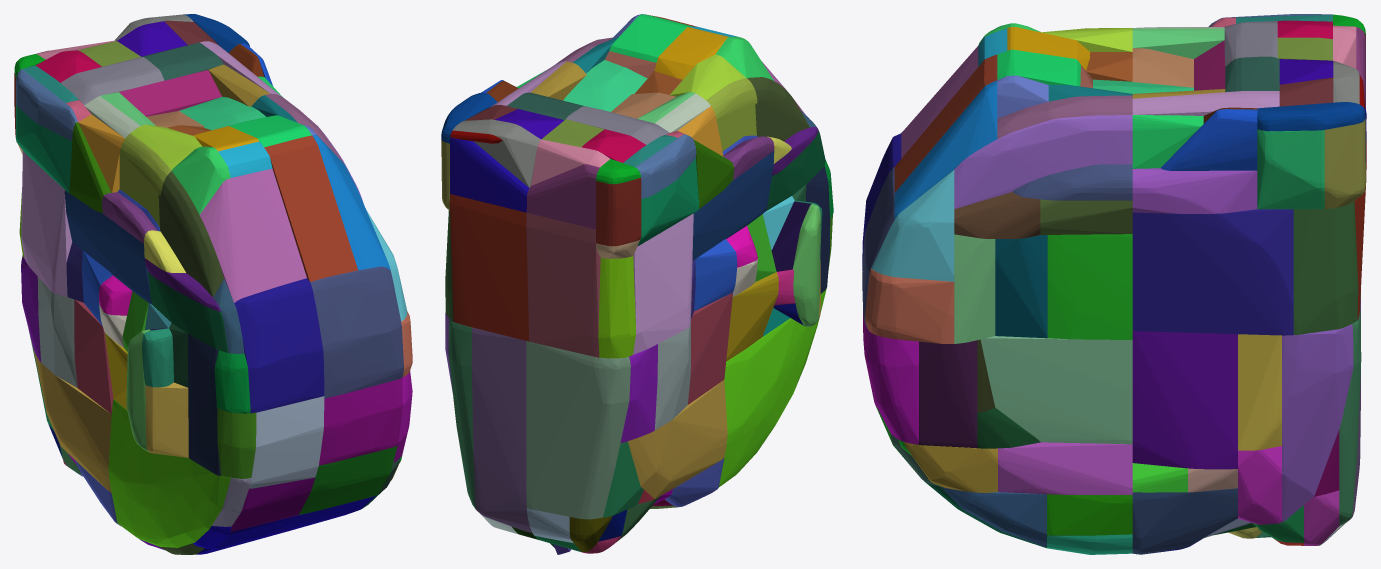
File: coacd_collision.obj
The picture shows the model from 3 angles, left to right: view 1: azimuth 30°, elevation 25°; view 2: azimuth 150°, elevation 25°; view 3: azimuth 270°, elevation 25°; orthographic projection. The views are drawn at different scales.
Visible parts, largest first — view 1: geometry_17, geometry_16, geometry_20, geometry_7, geometry_31, geometry_6, geometry_14, geometry_49, geometry_37, geometry_44, geometry_63, geometry_21 (+59 smaller); view 2: geometry_0, geometry_1, geometry_15, geometry_13, geometry_17, geometry_37, geometry_49, geometry_44, geometry_102, geometry_4, geometry_109, geometry_28 (+54 smaller); view 3: geometry_18, geometry_27, geometry_39, geometry_46, geometry_40, geometry_50, geometry_19, geometry_38, geometry_26, geometry_2, geometry_9, geometry_112 (+53 smaller).
Boxes of the visible parts, x1,y1,x2,y2 form: geometry_17: [108, 399, 230, 547]; geometry_16: [310, 266, 403, 398]; geometry_20: [234, 278, 324, 413]; geometry_7: [199, 168, 306, 302]; geometry_31: [264, 135, 357, 281]; geometry_6: [249, 396, 324, 488]; geometry_14: [319, 378, 402, 465]; geometry_49: [21, 151, 72, 296]; geometry_37: [33, 349, 111, 492]; geometry_44: [64, 190, 152, 304]; geometry_63: [158, 171, 223, 297]; geometry_21: [188, 334, 220, 475]; geometry_0: [526, 341, 630, 519]; geometry_1: [471, 327, 531, 532]; geometry_15: [449, 194, 529, 341]; geometry_13: [526, 213, 600, 357]; geometry_17: [718, 289, 826, 487]; geometry_37: [628, 380, 727, 498]; geometry_49: [633, 213, 693, 354]; geometry_44: [692, 151, 774, 260]; geometry_102: [450, 137, 529, 212]; geometry_4: [598, 256, 635, 358]; geometry_109: [688, 293, 732, 404]; geometry_28: [526, 164, 599, 229]; geometry_18: [1132, 209, 1293, 335]; geometry_27: [1132, 331, 1237, 469]; geometry_39: [980, 336, 1132, 444]; geometry_46: [1282, 324, 1353, 521]; geometry_40: [954, 115, 1132, 208]; geometry_50: [1047, 234, 1132, 339]; geometry_19: [1293, 201, 1358, 334]; geometry_38: [998, 442, 1132, 494]; geometry_26: [919, 340, 977, 447]; geometry_2: [871, 170, 954, 281]; geometry_9: [865, 268, 954, 343]; geometry_112: [1132, 488, 1237, 554].
Bounding box in the file's own units: 38.4 × 67.55 × 62.85.
